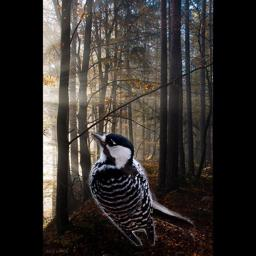Woodpecker: (84, 128, 196, 246)
